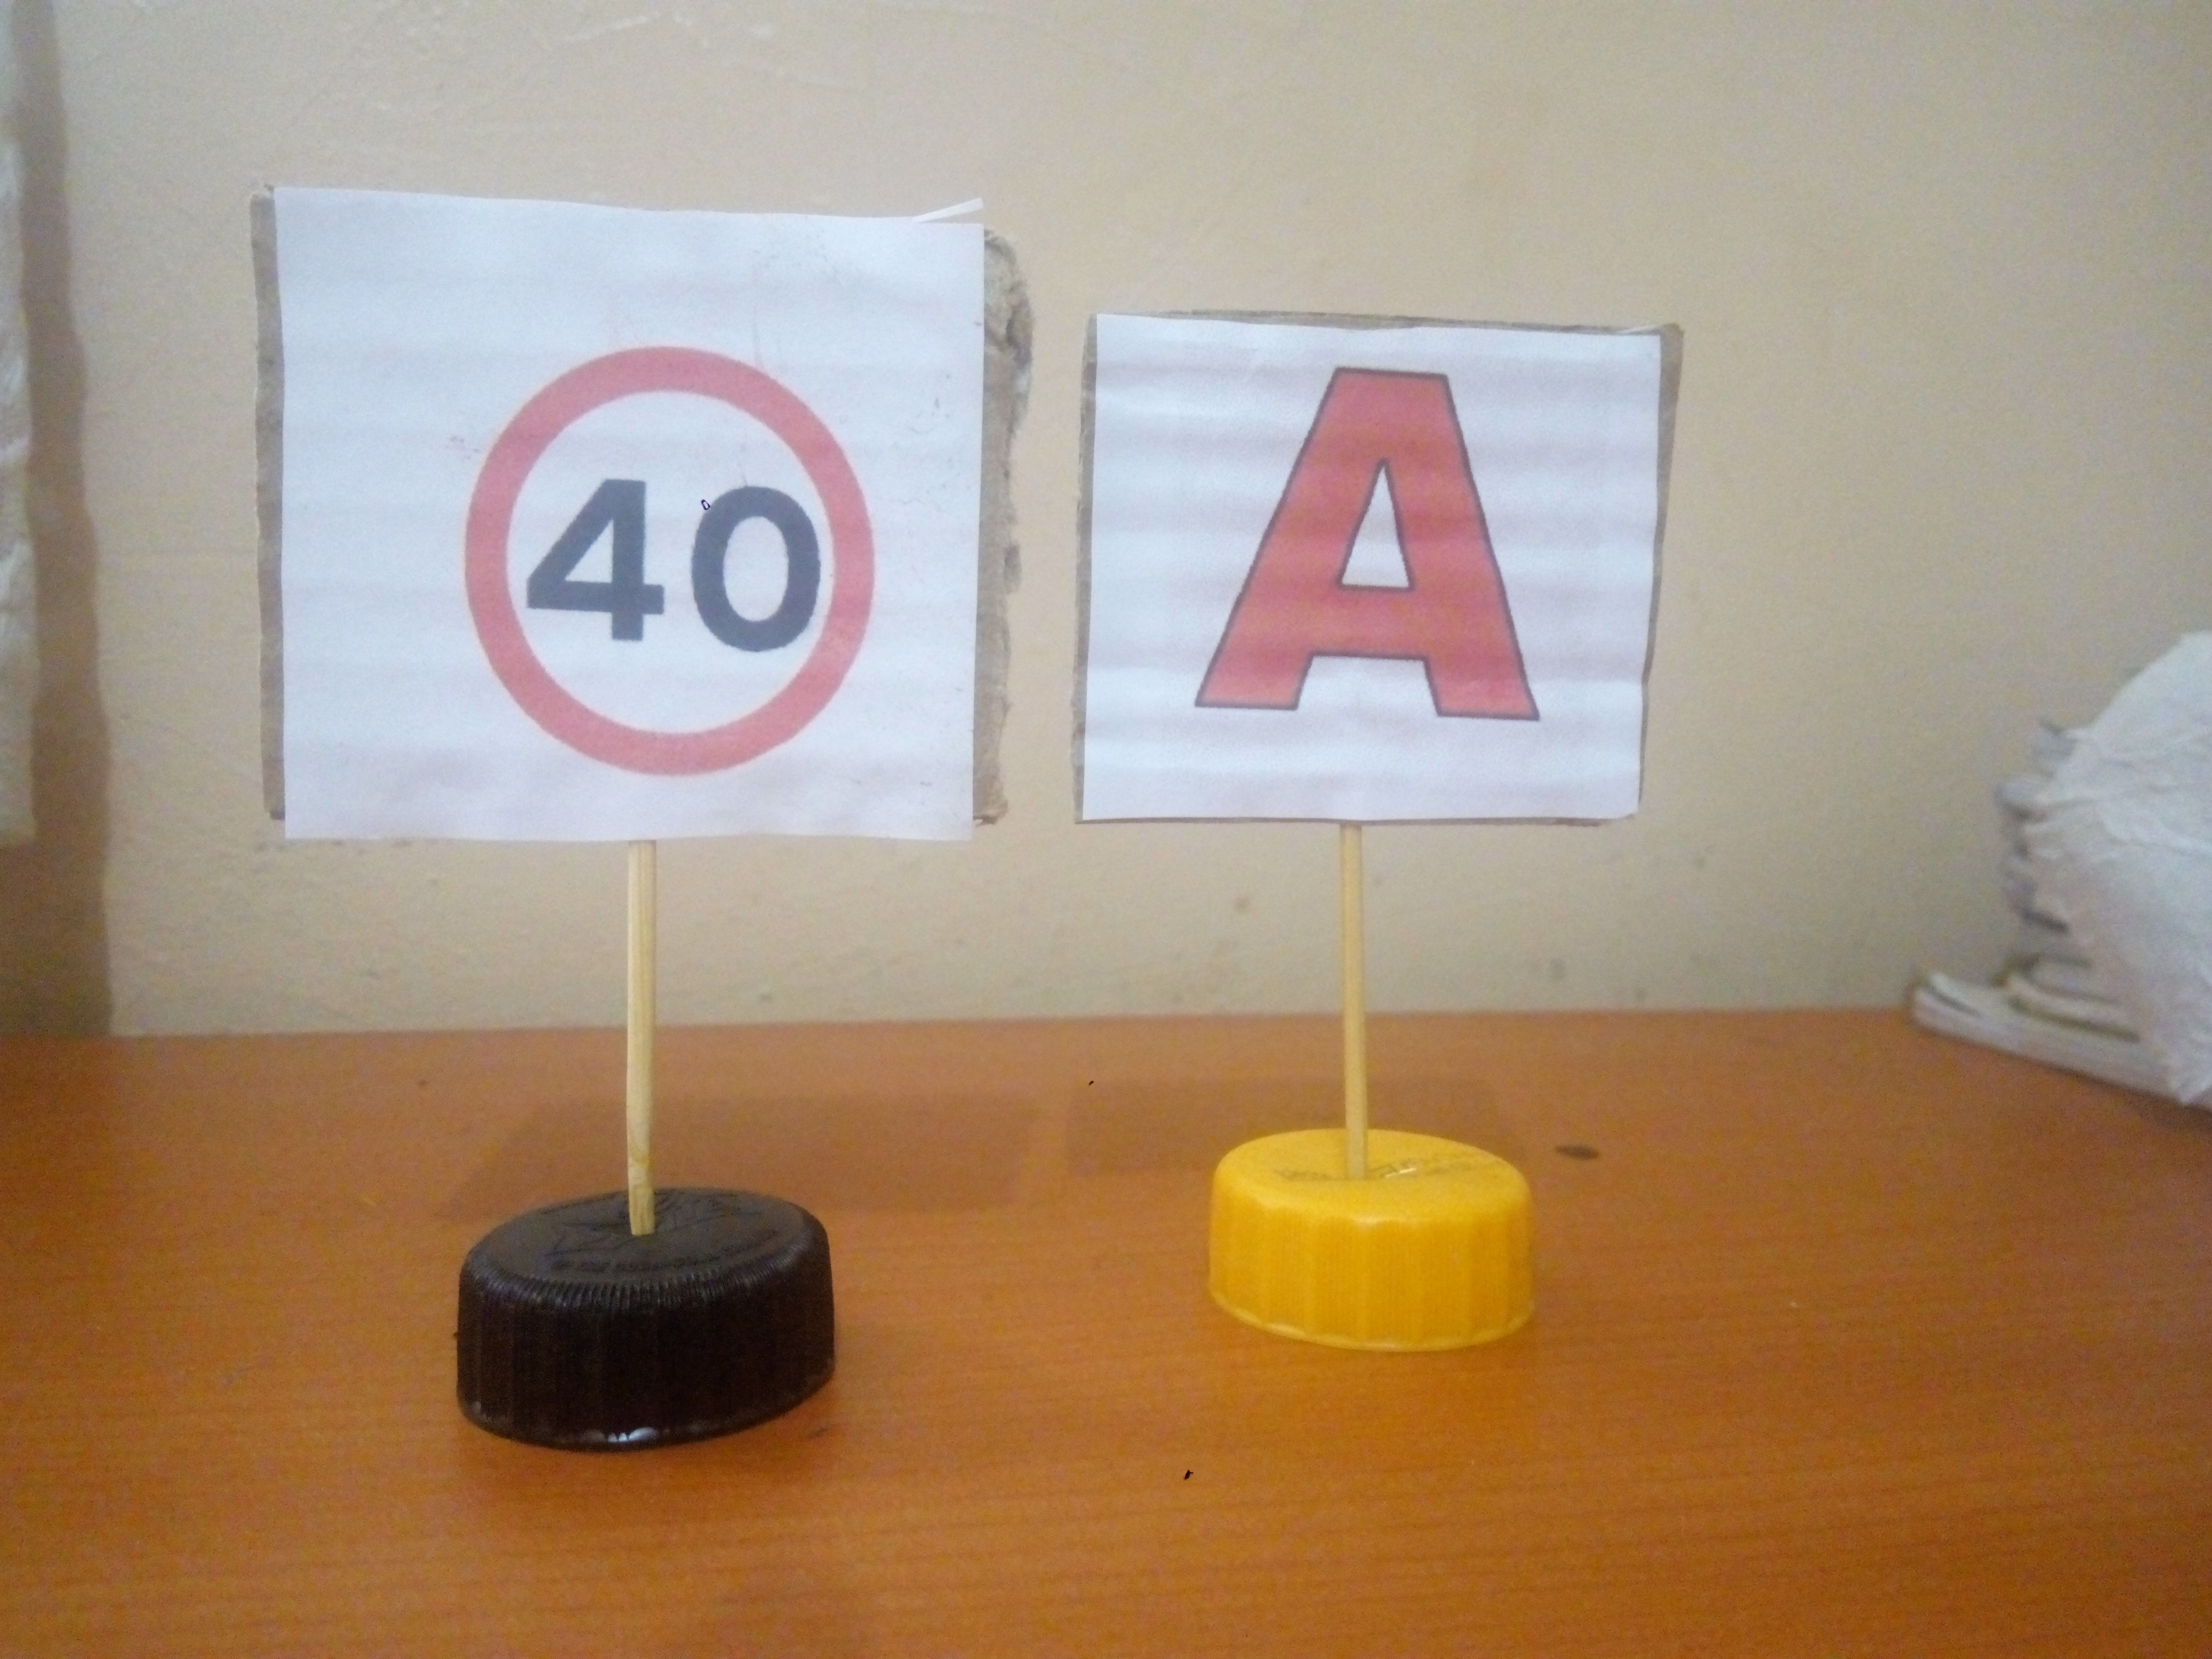40 kph: (415, 303, 911, 781)
zone A: (1146, 340, 1608, 782)
